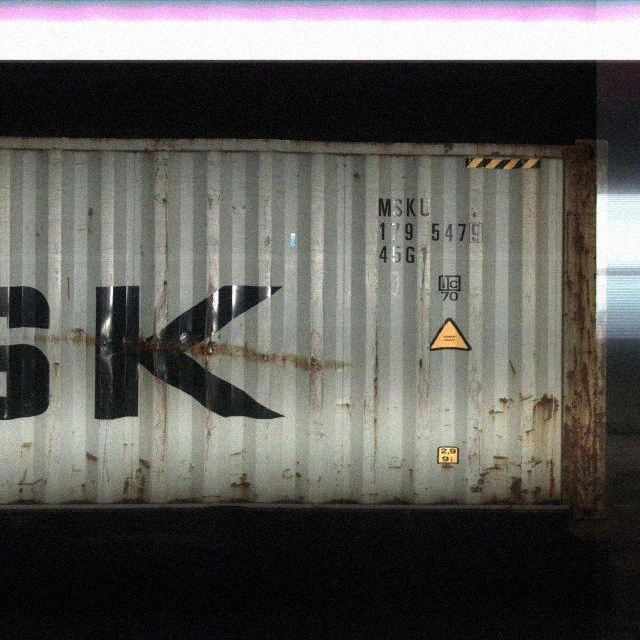Rusty: (15, 325, 353, 383), (568, 171, 607, 512), (470, 453, 559, 504), (491, 393, 563, 428), (120, 457, 157, 508), (226, 474, 263, 493)
